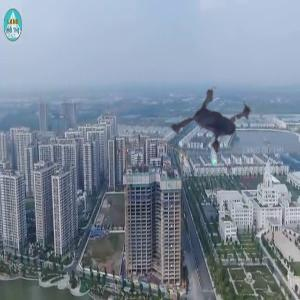drone: (148, 77, 276, 205)
